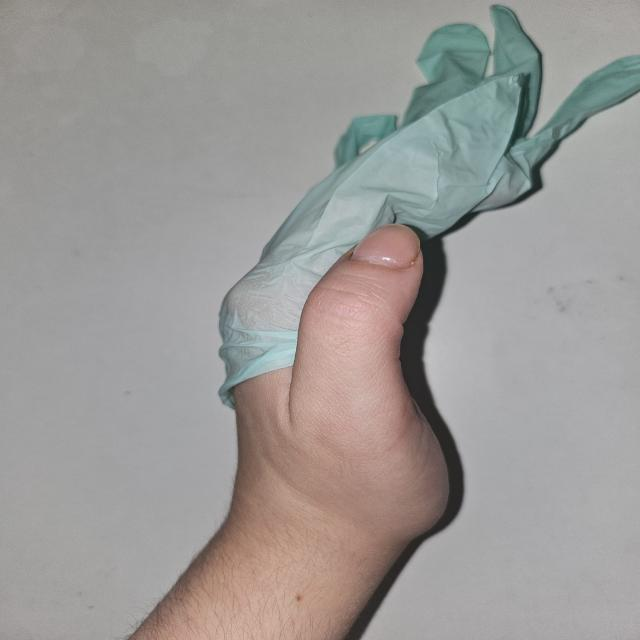glove_partial: (216, 3, 640, 538)
